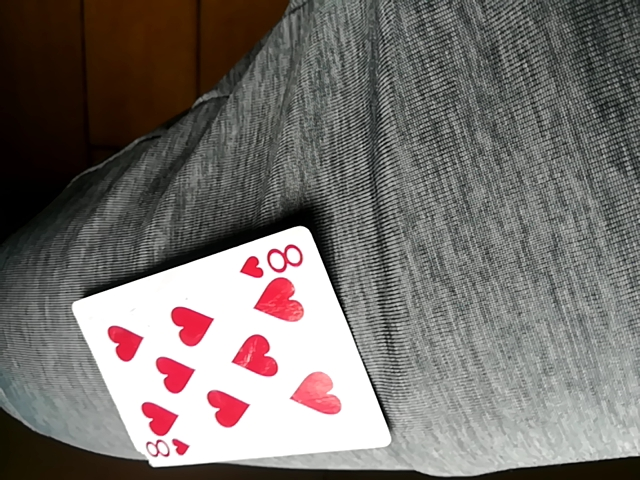hx 8: (75, 227, 389, 468)
